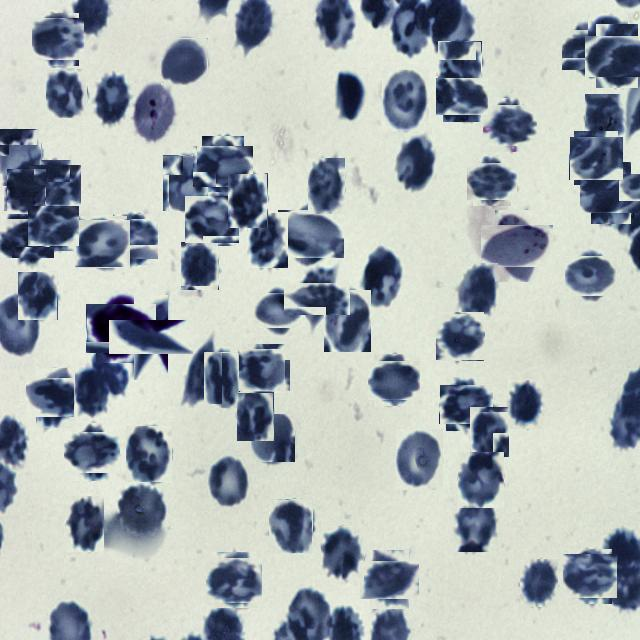leukocyte: (91, 298, 151, 358)
red blood cell: (121, 308, 180, 368), (282, 205, 340, 263), (382, 69, 430, 131), (324, 290, 371, 352), (396, 429, 443, 490), (117, 482, 166, 538), (126, 425, 173, 483), (208, 554, 260, 606), (76, 218, 128, 270), (361, 247, 404, 309), (186, 193, 238, 244), (198, 140, 248, 192), (591, 29, 640, 82), (163, 155, 209, 211), (458, 452, 504, 508), (68, 428, 118, 478), (565, 552, 615, 602), (586, 168, 636, 218), (292, 274, 342, 324), (208, 452, 251, 508), (365, 555, 414, 604), (31, 373, 80, 422), (0, 214, 50, 262), (0, 129, 42, 186), (321, 526, 365, 580), (269, 499, 313, 553), (454, 498, 498, 552), (572, 134, 620, 183), (182, 346, 222, 404), (34, 16, 82, 64), (436, 312, 484, 360), (486, 101, 534, 149), (240, 346, 288, 394), (564, 26, 612, 74), (30, 162, 78, 210), (442, 381, 490, 428), (247, 213, 288, 268), (395, 135, 435, 191), (161, 38, 208, 85), (585, 94, 625, 149), (228, 173, 268, 228), (308, 157, 346, 214), (568, 253, 614, 300), (458, 263, 498, 317), (371, 357, 417, 403), (110, 216, 156, 262), (30, 202, 76, 248), (251, 414, 295, 462), (46, 68, 88, 118), (66, 497, 104, 552), (588, 13, 628, 65), (438, 41, 482, 88), (470, 406, 510, 457), (204, 352, 240, 408), (94, 73, 132, 125), (18, 271, 58, 320), (332, 68, 368, 122), (470, 159, 514, 203), (257, 288, 301, 332), (440, 74, 484, 118), (520, 558, 559, 607), (181, 241, 219, 290), (237, 392, 274, 441), (5, 170, 48, 212), (74, 369, 110, 417), (508, 380, 543, 429)
ring: (488, 218, 546, 274), (132, 80, 176, 145)
